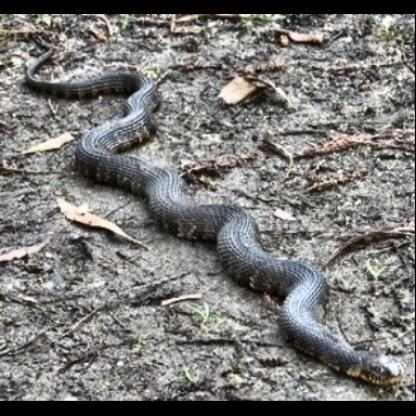Snake: (9, 60, 404, 393)
